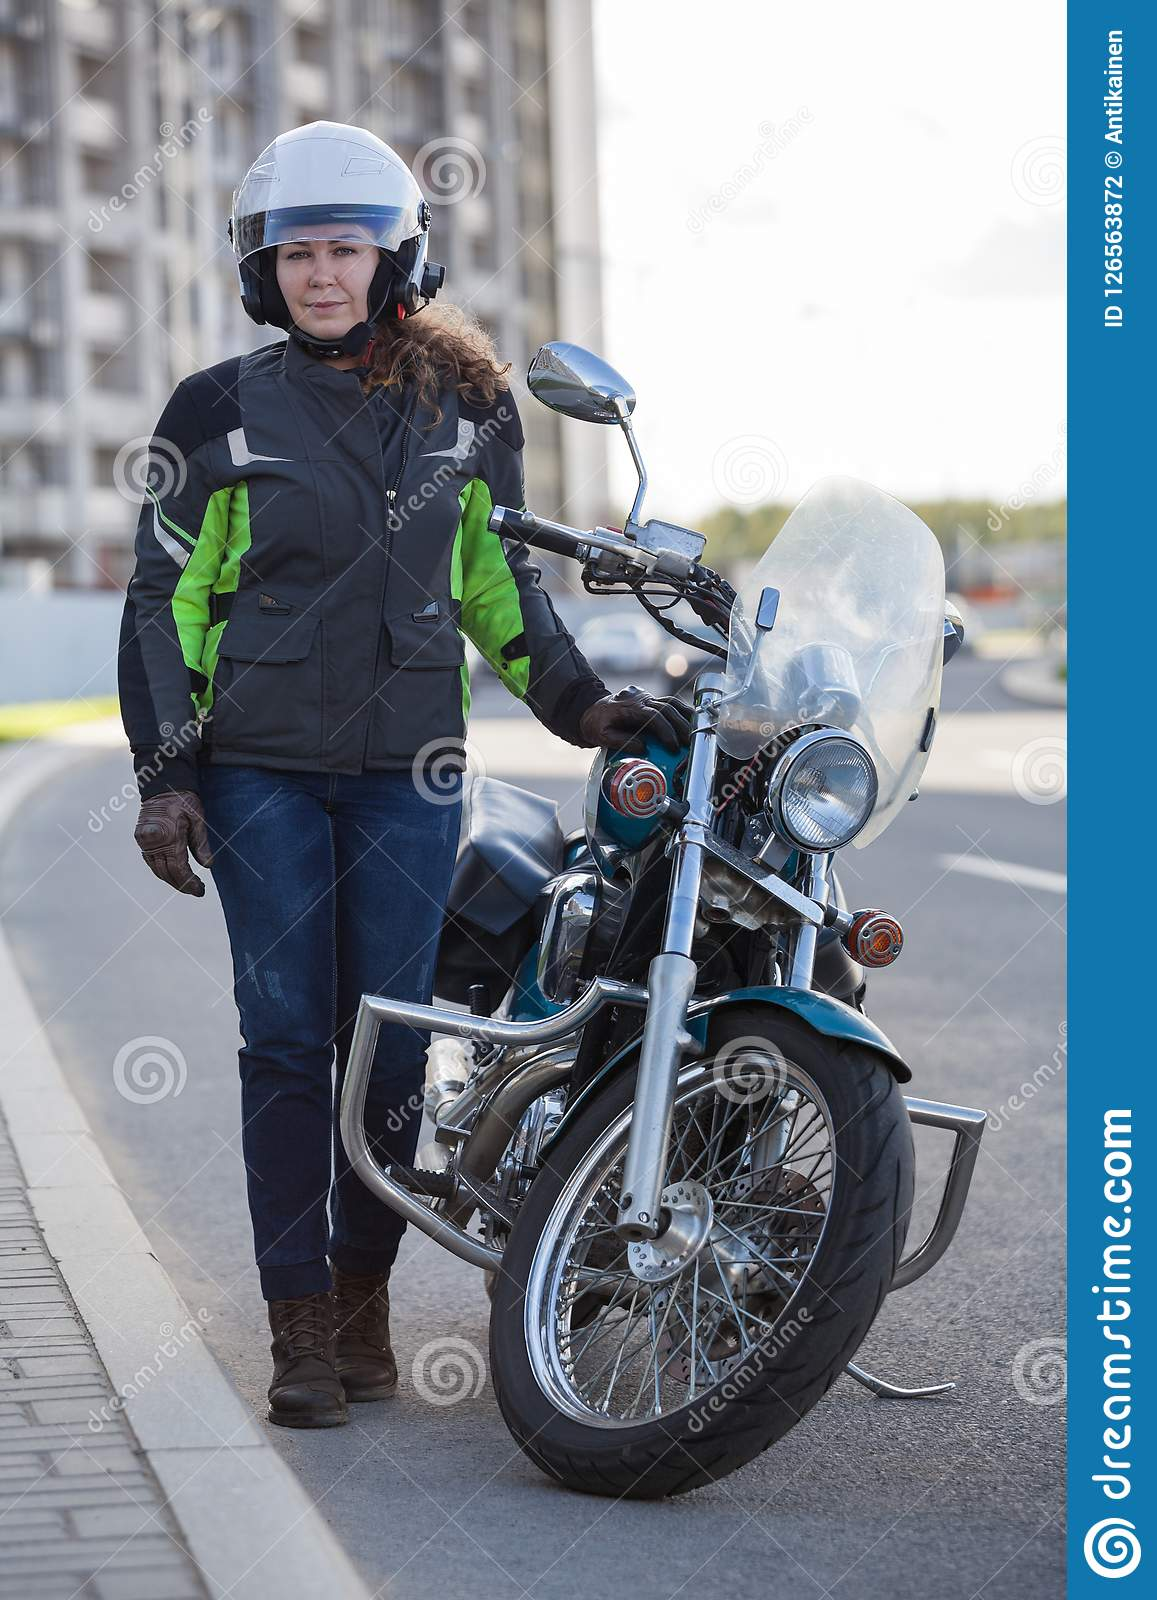helmet: (227, 127, 457, 278)
